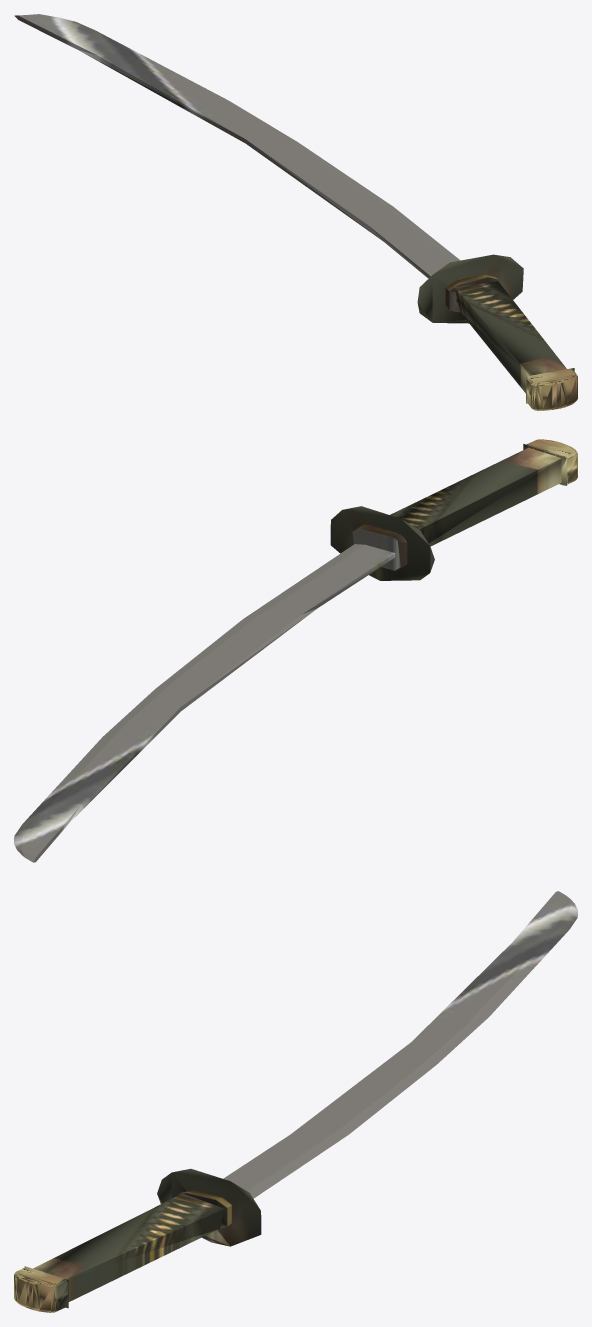
The model's file is Samurai_Sword.glb.
The picture shows the model from 3 angles, top to bottom: view 1: azimuth 30°, elevation 25°; view 2: azimuth 150°, elevation 25°; view 3: azimuth 330°, elevation 25°; orthographic projection. The views are drawn at different scales.
Visible parts, largest first — view 1: Samurai_Sword; view 2: Samurai_Sword; view 3: Samurai_Sword.
Part boxes in pixels (box(x1,y1,x2,y2)): Samurai_Sword: box(14, 14, 577, 410); Samurai_Sword: box(14, 439, 577, 862); Samurai_Sword: box(14, 891, 577, 1312).
Size of the model in its own units: 1.29 by 0.7021 by 10.22.
1 material, 1 textured.
